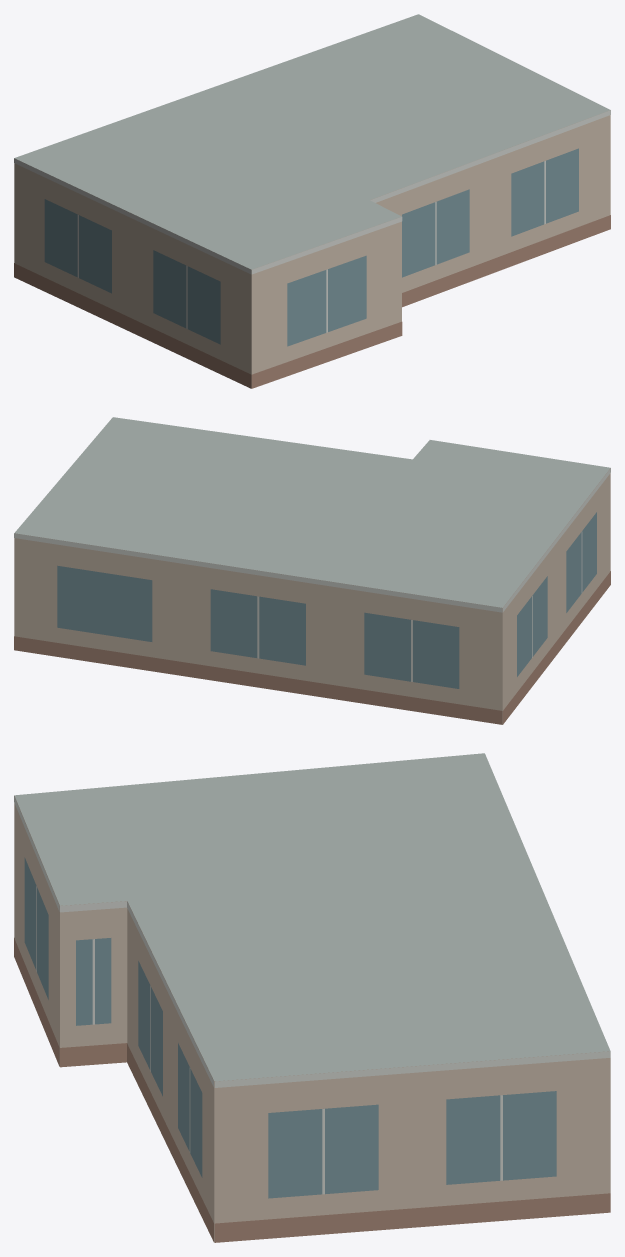
Rendered from survey-upis-32613769.glb.
The picture shows the model from 3 angles, top to bottom: view 1: azimuth 30°, elevation 25°; view 2: azimuth 150°, elevation 25°; view 3: azimuth 270°, elevation 25°; orthographic projection. The views are drawn at different scales.
Visible parts, largest first — view 1: survey-upis-32613769.tmp; view 2: survey-upis-32613769.tmp; view 3: survey-upis-32613769.tmp.
Part boxes in pixels (bbox=[...]): survey-upis-32613769.tmp: bbox=[14, 14, 610, 388]; survey-upis-32613769.tmp: bbox=[14, 417, 610, 724]; survey-upis-32613769.tmp: bbox=[14, 753, 610, 1242].
Bounding box in the file's own units: 13.32 × 3.05 × 10.23.
